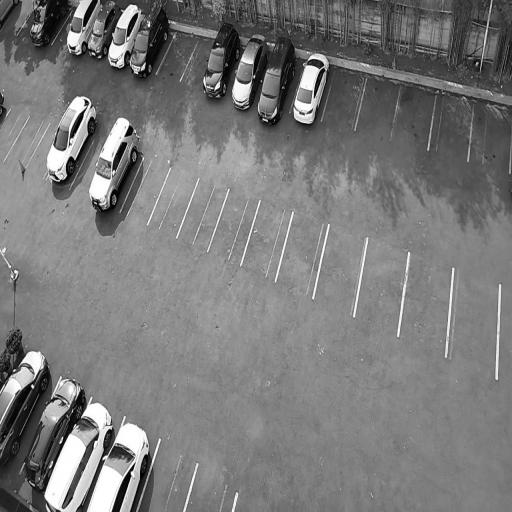Car: (35, 394, 121, 512), (18, 363, 92, 499), (85, 414, 159, 512), (0, 343, 55, 472), (83, 112, 144, 216), (42, 91, 103, 189), (253, 27, 302, 129), (125, 1, 175, 81), (199, 21, 246, 105), (227, 30, 273, 115), (288, 46, 334, 129), (103, 1, 145, 73), (61, 0, 104, 60), (83, 0, 124, 62), (26, 0, 74, 51)
Space Available: (445, 268, 500, 378), (398, 253, 453, 356), (354, 236, 409, 334), (312, 223, 367, 314), (275, 210, 329, 297), (240, 198, 293, 280), (137, 439, 197, 511), (206, 187, 260, 263), (177, 176, 229, 252), (147, 166, 199, 237), (120, 158, 171, 224), (468, 101, 512, 172), (428, 95, 474, 160), (354, 79, 401, 140), (391, 86, 436, 149), (321, 72, 366, 130), (184, 464, 236, 512), (4, 116, 50, 168), (156, 34, 198, 80), (70, 139, 105, 194), (26, 121, 59, 173), (0, 108, 30, 162), (180, 38, 213, 83), (0, 0, 39, 35), (51, 5, 77, 48)
